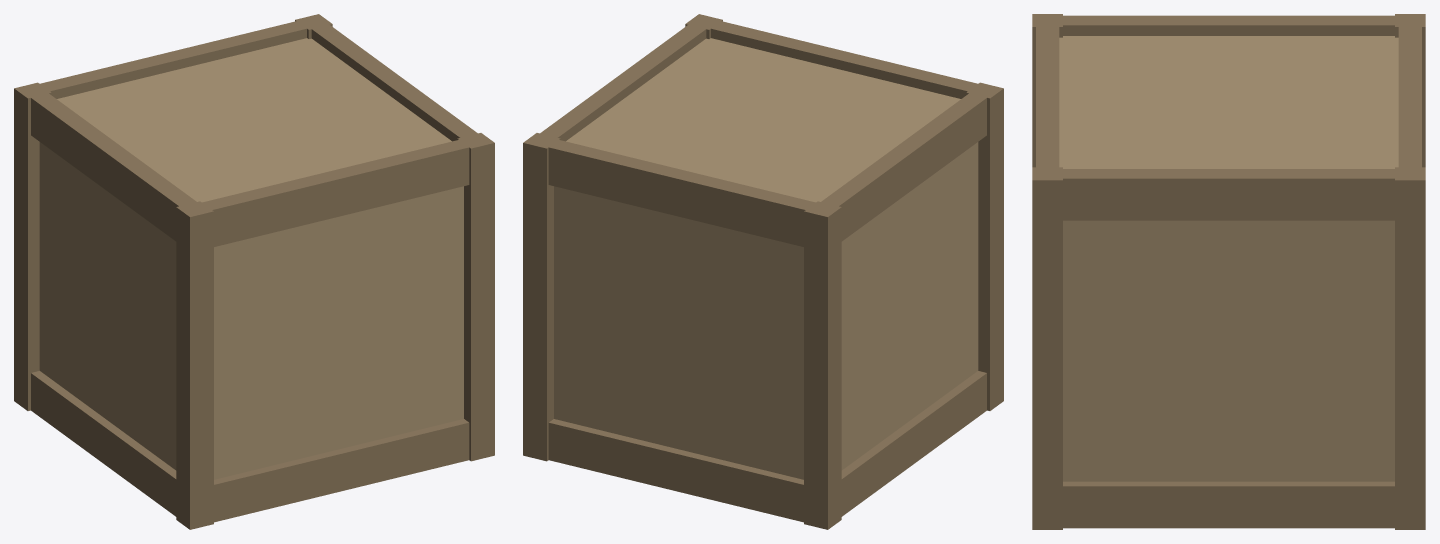
File: crate.glb
3 views of the same model, side by side, from view 1: azimuth 30°, elevation 25°; view 2: azimuth 150°, elevation 25°; view 3: azimuth 270°, elevation 25° (orthographic). The views are drawn at different scales.
Visible parts, largest first — view 1: crate; view 2: crate; view 3: crate.
Part boxes in pixels (x1,y1,x2,y2): crate: (14, 14, 494, 529); crate: (523, 14, 1003, 529); crate: (1032, 14, 1425, 529).
Bounding box in the file's own units: 1.02 × 1 × 1.02.
